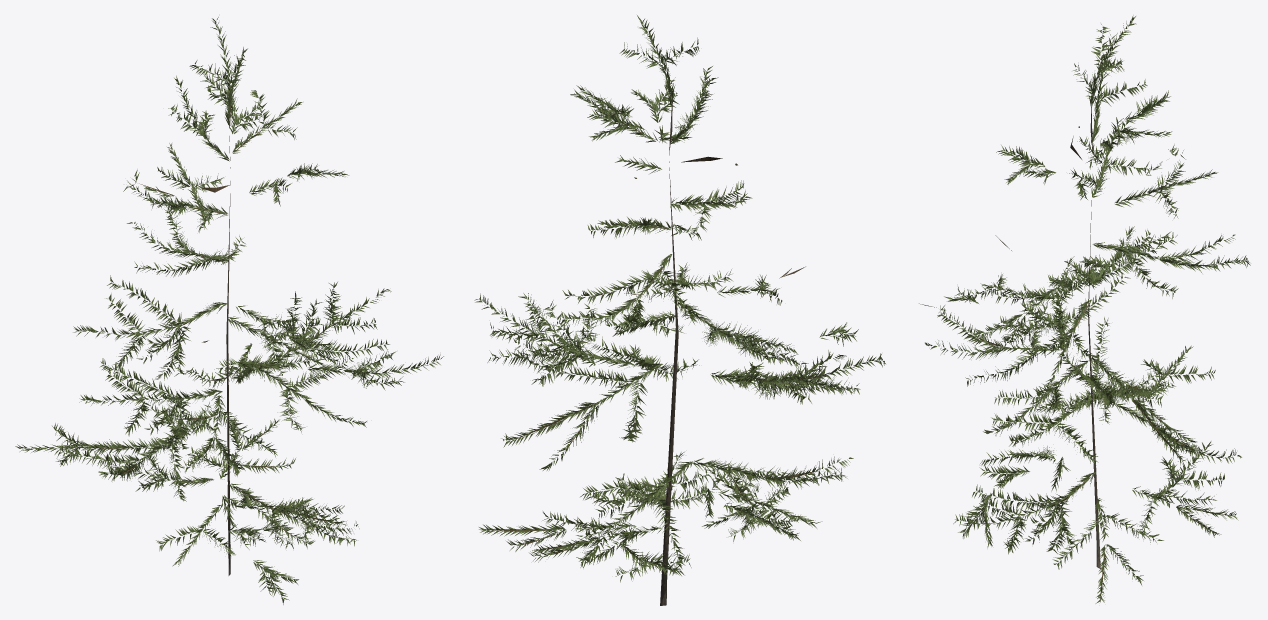
File: fir-far.glb
The picture shows the model from 3 angles, left to right: view 1: azimuth 30°, elevation 25°; view 2: azimuth 150°, elevation 25°; view 3: azimuth 270°, elevation 25°; orthographic projection. The views are drawn at different scales.
Visible parts, largest first — view 1: fir_sapling_a; view 2: fir_sapling_a; view 3: fir_sapling_a.
Part boxes in pixels (x1,y1,x2,y2): fir_sapling_a: (15, 17, 443, 604); fir_sapling_a: (474, 15, 885, 605); fir_sapling_a: (919, 15, 1250, 603).
Size of the model in its own units: 4.75 by 7.18 by 3.96.
2 materials, 2 textured.
